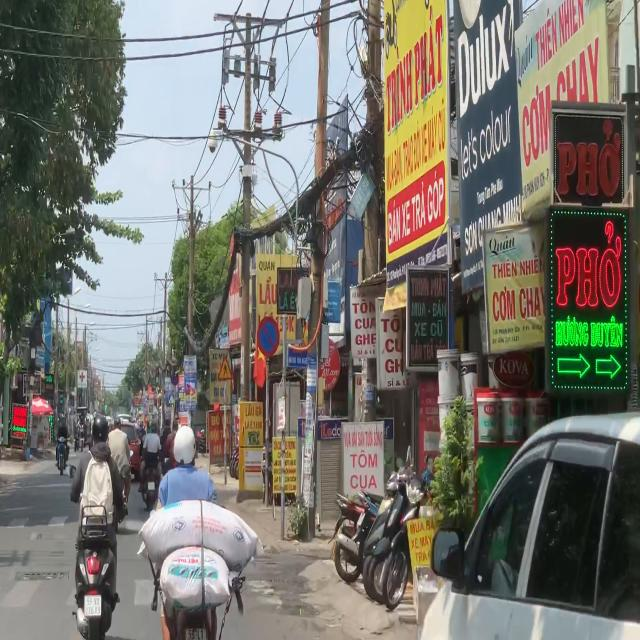Cam do: (256, 316, 280, 357)
Nguoi di bo cat ngang: (217, 354, 233, 381)
